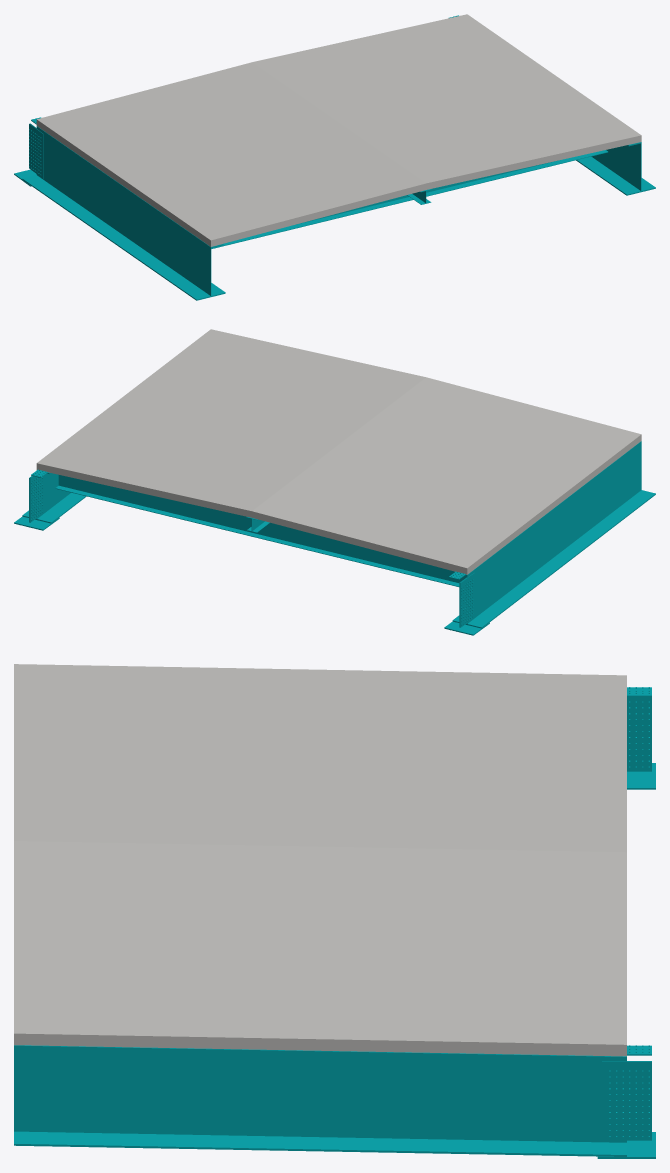
The model's file is DECK_SS06.glb.
3 renders of one model, top to bottom at view 1: azimuth 30°, elevation 25°; view 2: azimuth 150°, elevation 25°; view 3: azimuth 270°, elevation 25°, orthographic. The views are drawn at different scales.
Visible parts, largest first — view 1: SS06_Slab_15, SS06_G_W_0, SS06_G_E_1, SS06_FB_bf_14, SS06_SpliceW_17, SS06_FB_web_11; view 2: SS06_Slab_15, SS06_G_W_0, SS06_FB_web_3, SS06_FB_bf_6, SS06_G_E_1, SS06_SpliceW_17, SS06_SpliceW_25; view 3: SS06_Slab_15, SS06_G_E_1, SS06_SpliceW_26, SS06_SpliceW_18.
Boxes of the visible parts, x1,y1,x2,y2 form: SS06_Slab_15: [36, 14, 641, 246]; SS06_G_W_0: [22, 126, 225, 300]; SS06_G_E_1: [576, 142, 655, 195]; SS06_FB_bf_14: [211, 150, 607, 248]; SS06_SpliceW_17: [29, 123, 43, 178]; SS06_FB_web_11: [296, 160, 557, 224]; SS06_Slab_15: [36, 329, 641, 574]; SS06_G_W_0: [452, 441, 655, 628]; SS06_FB_web_3: [58, 475, 466, 582]; SS06_FB_bf_6: [55, 485, 459, 586]; SS06_G_E_1: [22, 472, 86, 523]; SS06_SpliceW_17: [460, 573, 474, 627]; SS06_SpliceW_25: [30, 475, 44, 522]; SS06_Slab_15: [14, 664, 626, 1056]; SS06_G_E_1: [14, 1045, 626, 1156]; SS06_SpliceW_26: [602, 1061, 651, 1140]; SS06_SpliceW_18: [627, 697, 651, 771].
Bounding box in the file's own units: 18.26 × 2.64 × 12.57.
